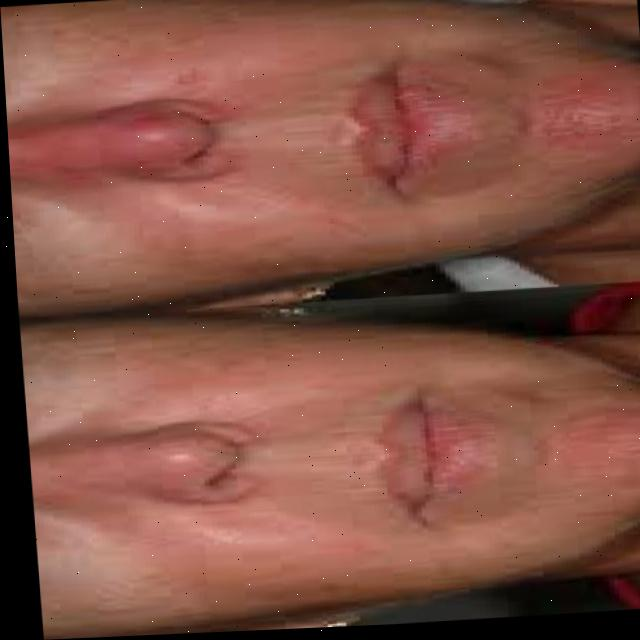Rosacea: (542, 52, 638, 156)
